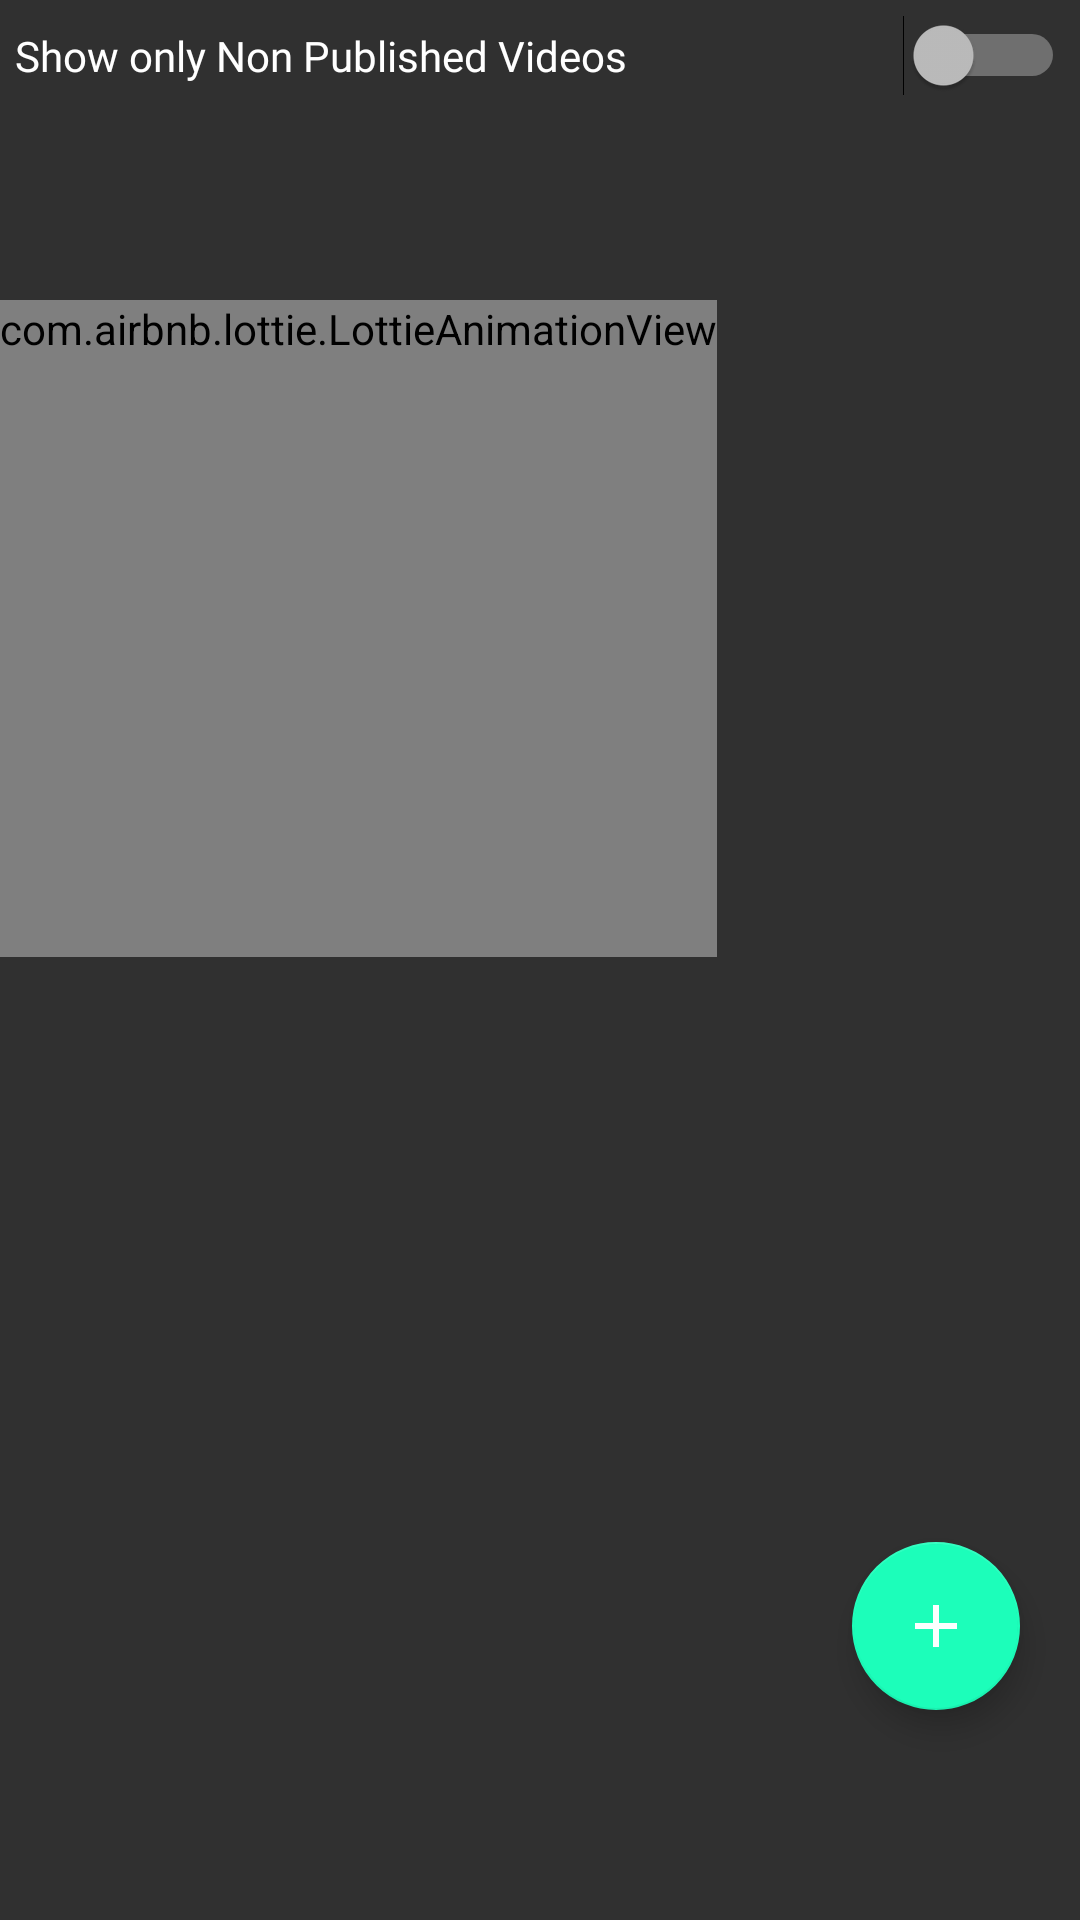

Where icons sit on this 1080*1920 app screen, as (x1, y1, x2, y2):
add: (852, 1542, 1020, 1710)
